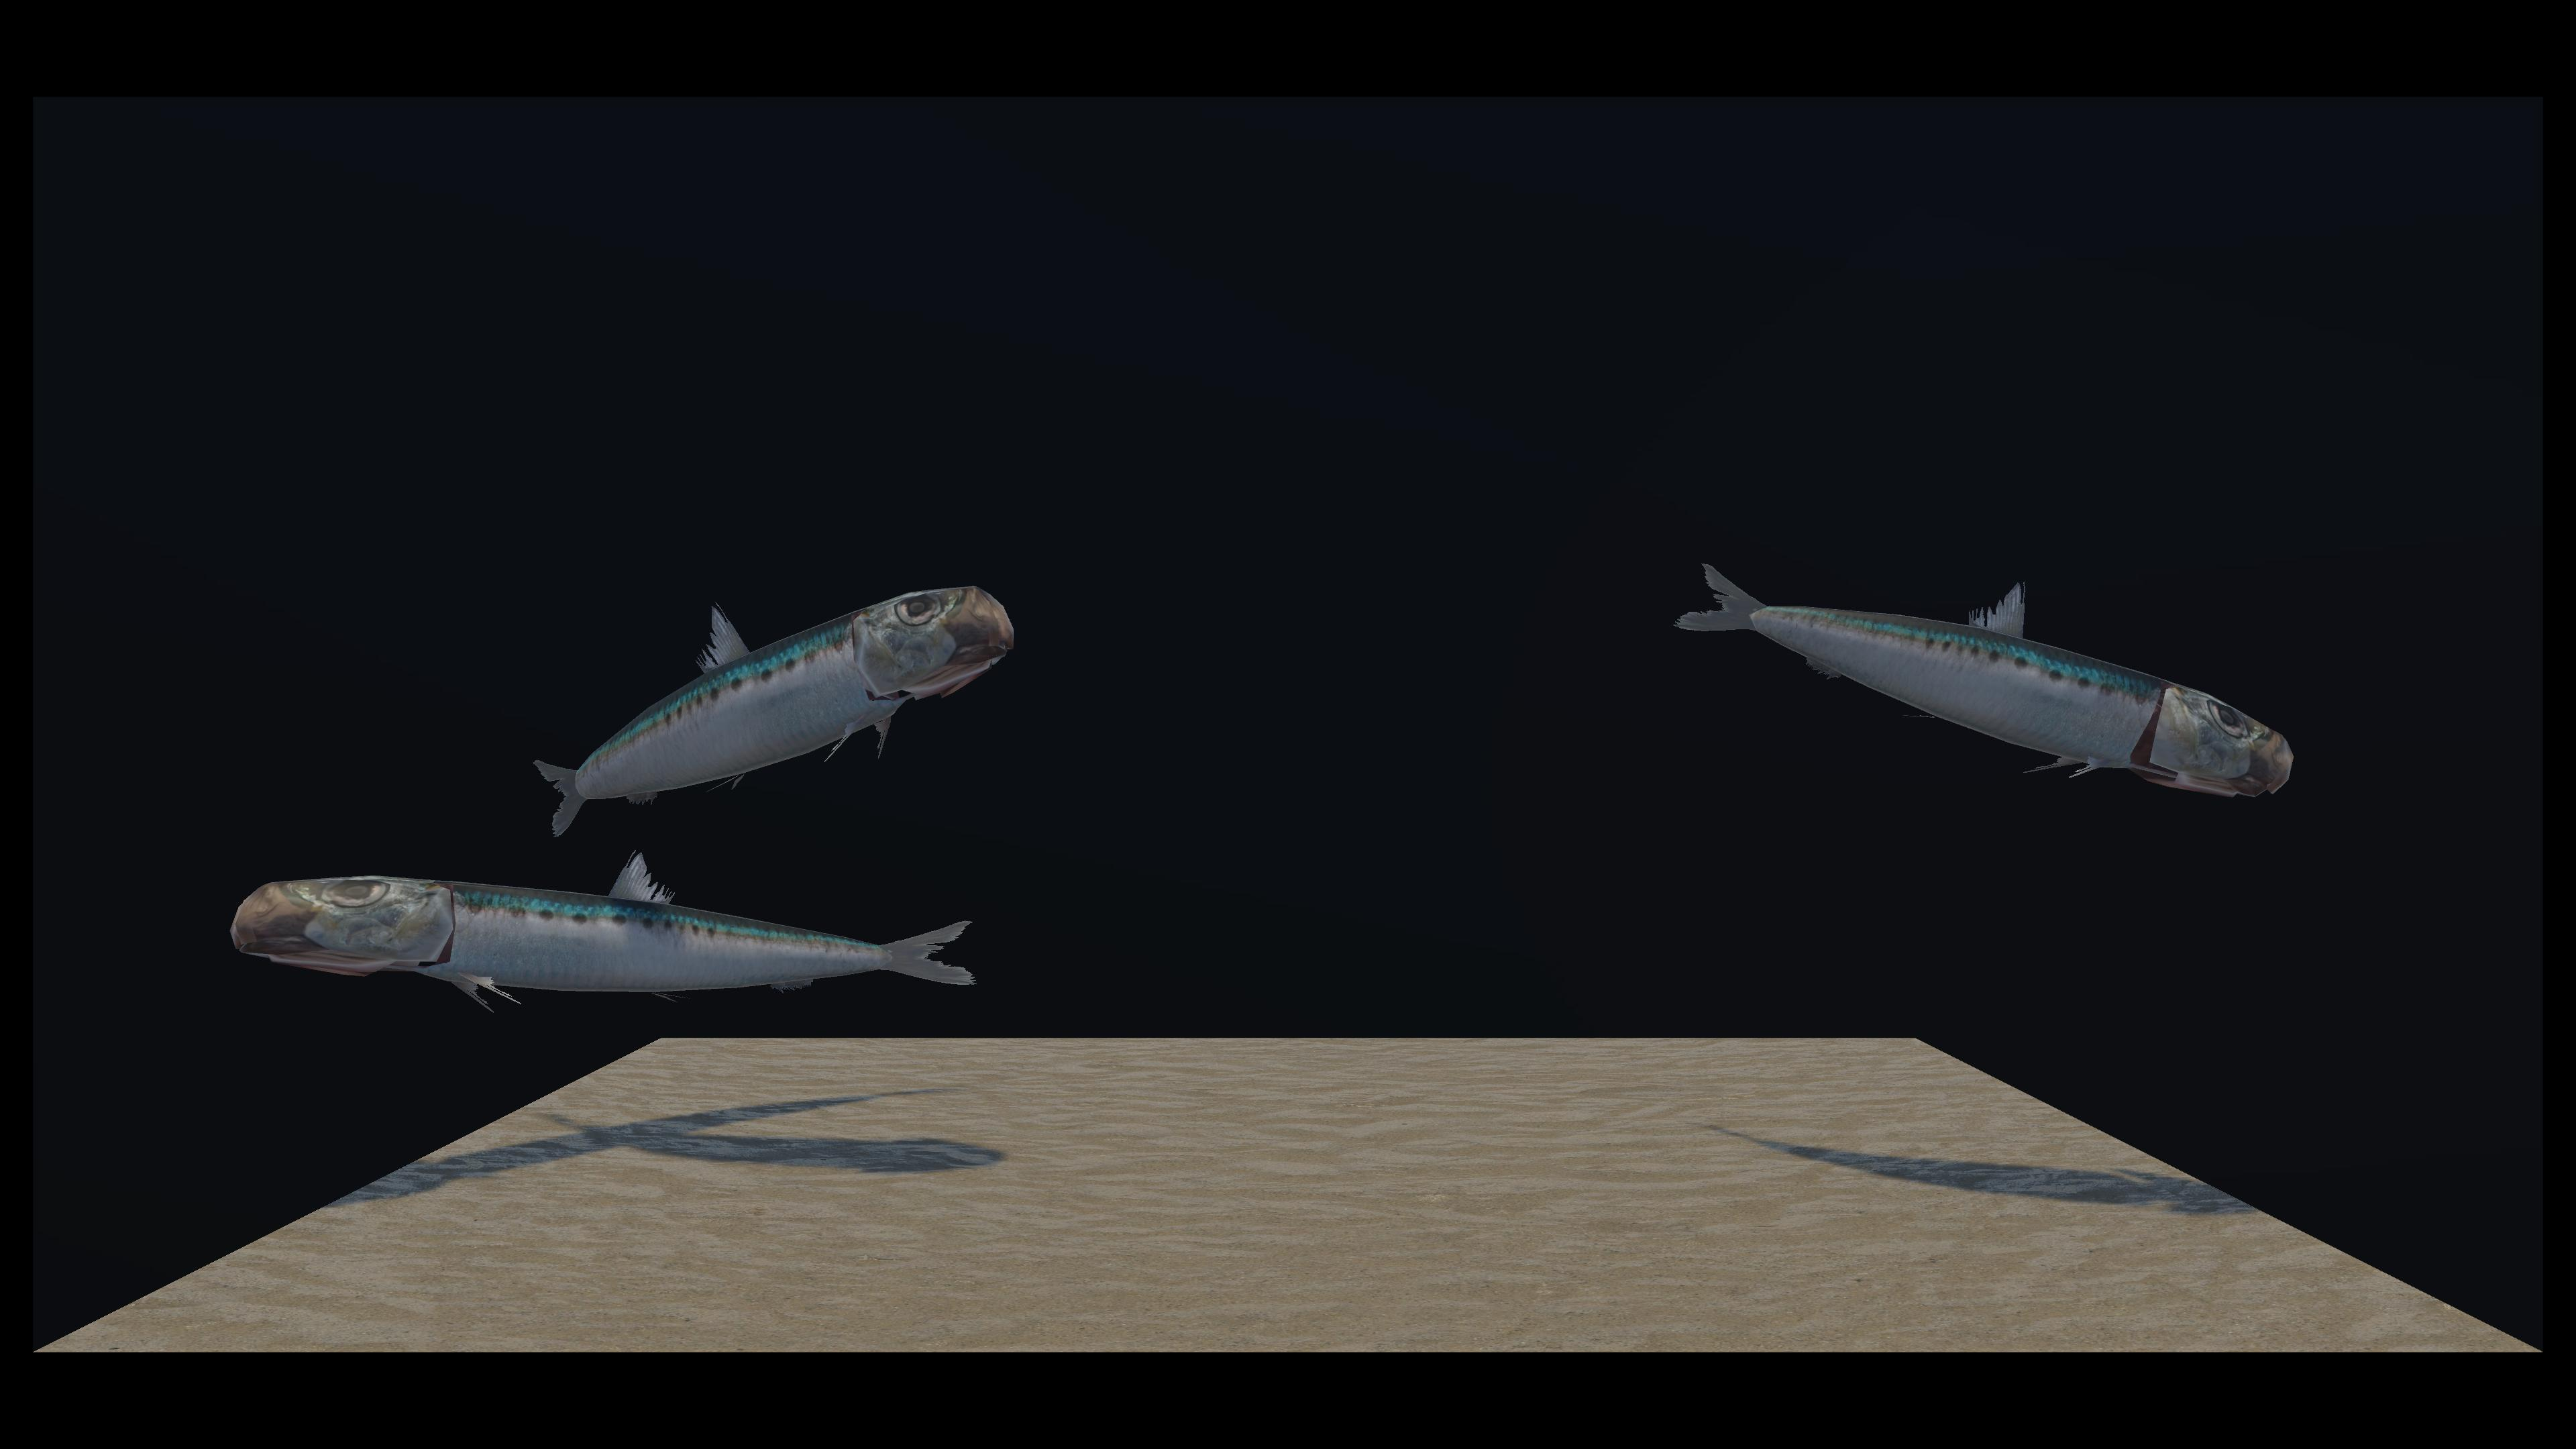Sardine_Front: (899, 425, 2270, 787), (274, 494, 991, 1021), (533, 502, 973, 835)
